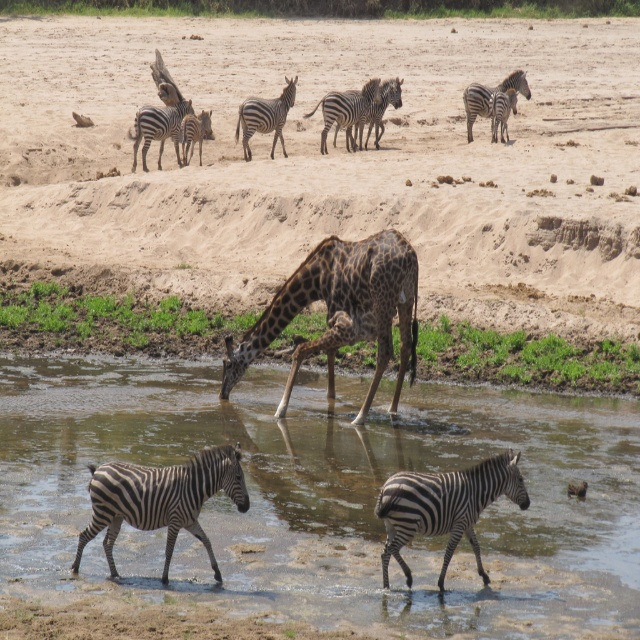Giraffe: (218, 228, 418, 425)
